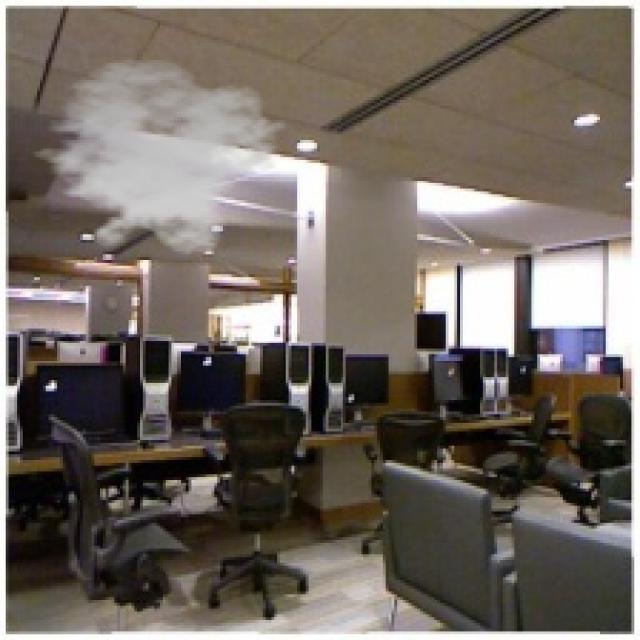smoke: (17, 57, 289, 257)
